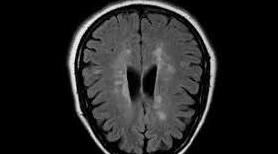Normal_Brain: (58, 1, 239, 154)
